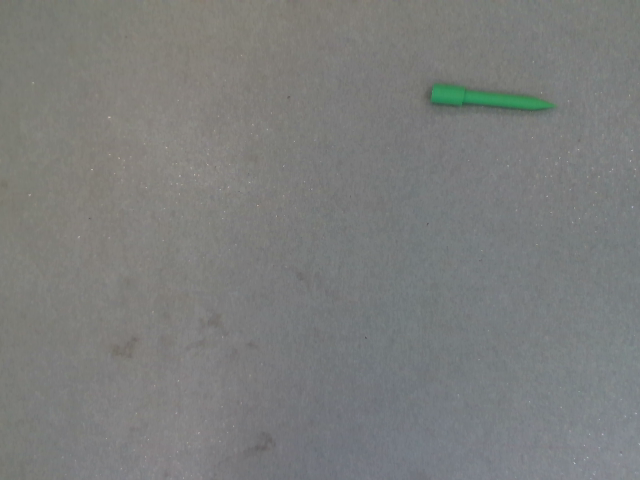Probe: (425, 78, 566, 119)
